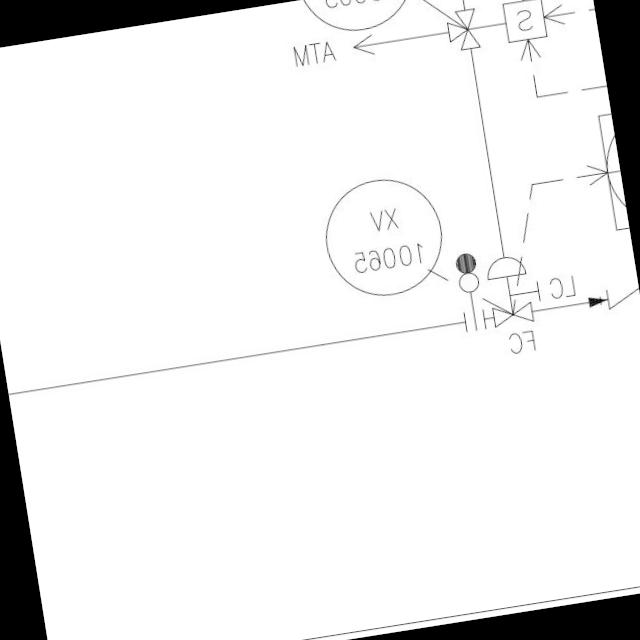3W: (437, 1, 487, 60)
SV: (447, 0, 550, 56), (480, 248, 537, 334)
